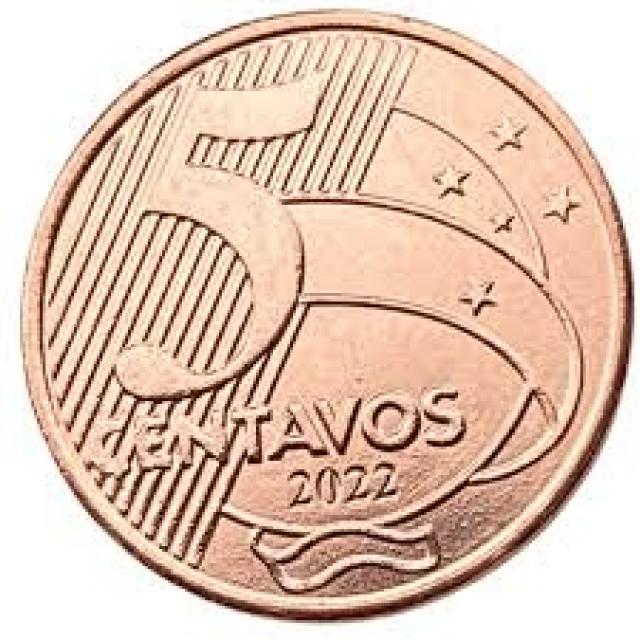5 cent: (29, 8, 632, 616)
